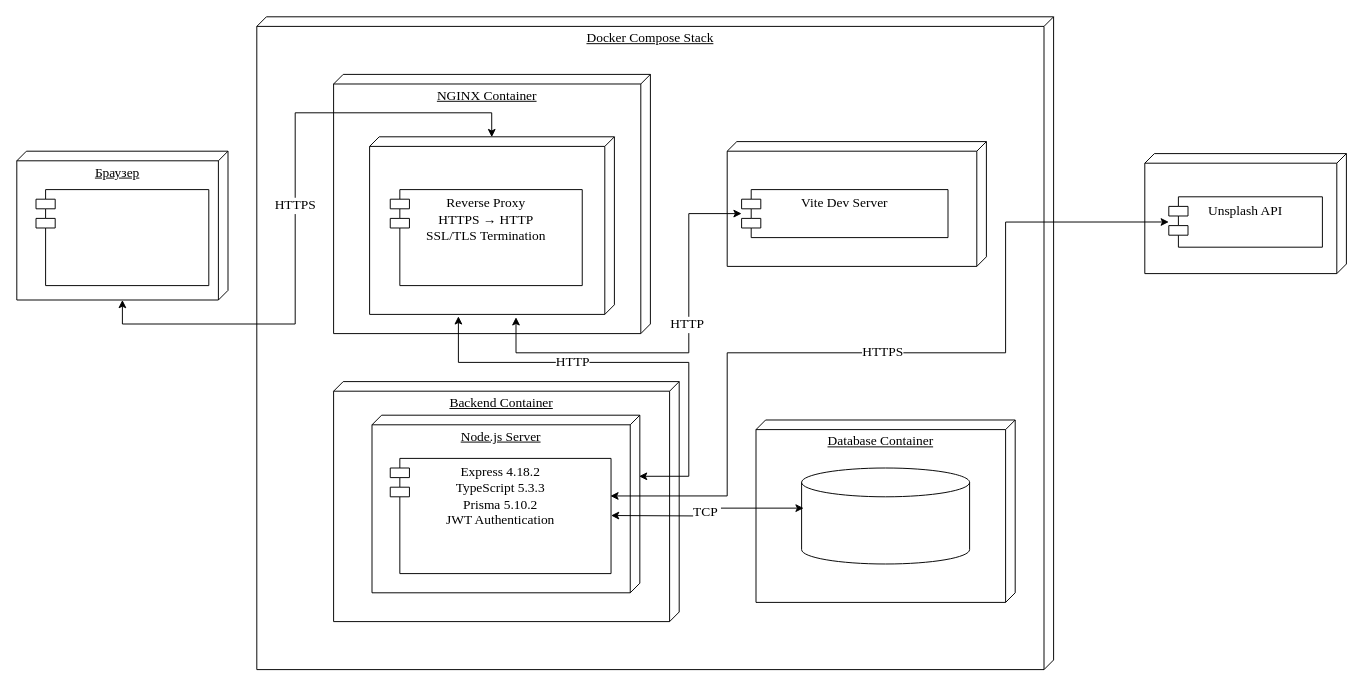
Some shapes in this 1363 by 686 pixel diagram are drawn without their labels. The shapes that lost their labels are listed below. From the top down, each one's box as (x1, y1, x2, y2) in pixels, then its label:
(726, 141, 986, 266): Client Container
(1144, 153, 1346, 274): External Services
(35, 189, 209, 286): React 18 + TypeScript Vite 5.1.4 Fabric.js 5.3.0 React Router 6.22.1
(369, 136, 614, 314): NGINX Server
(801, 467, 970, 564): PostgreSQL 15 Prisma ORM
